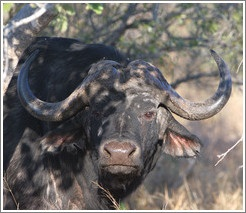buffalo: (2, 35, 232, 208)
